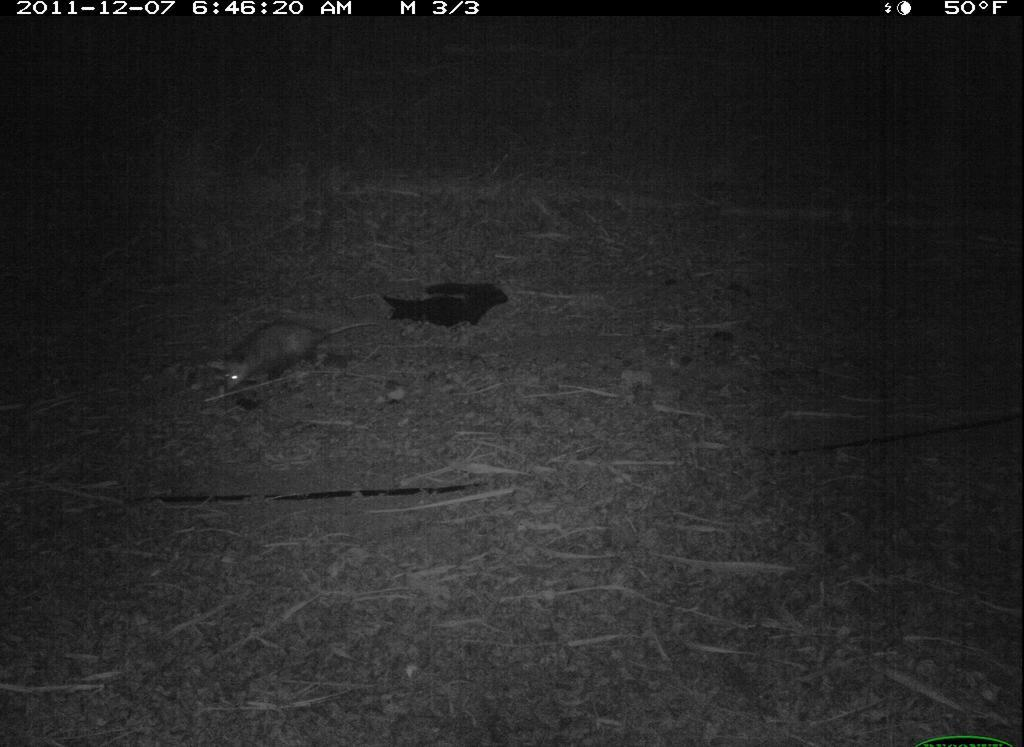opossum: (205, 299, 415, 406)
